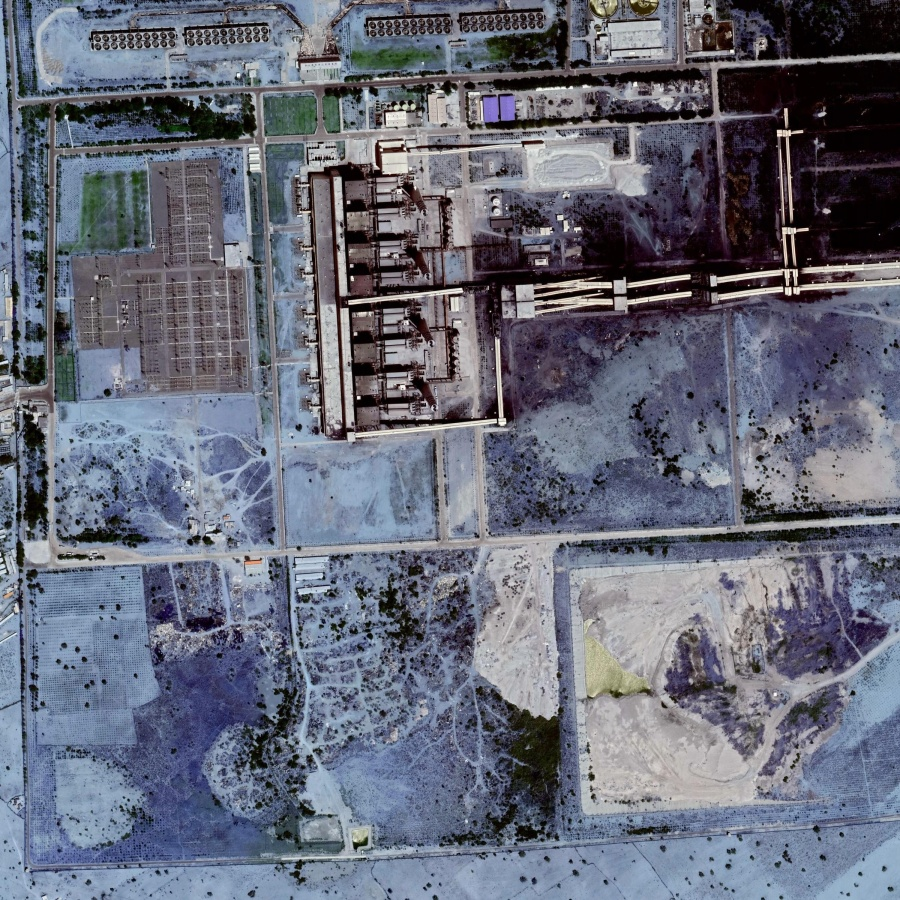PowerPlant: (303, 144, 502, 429)
